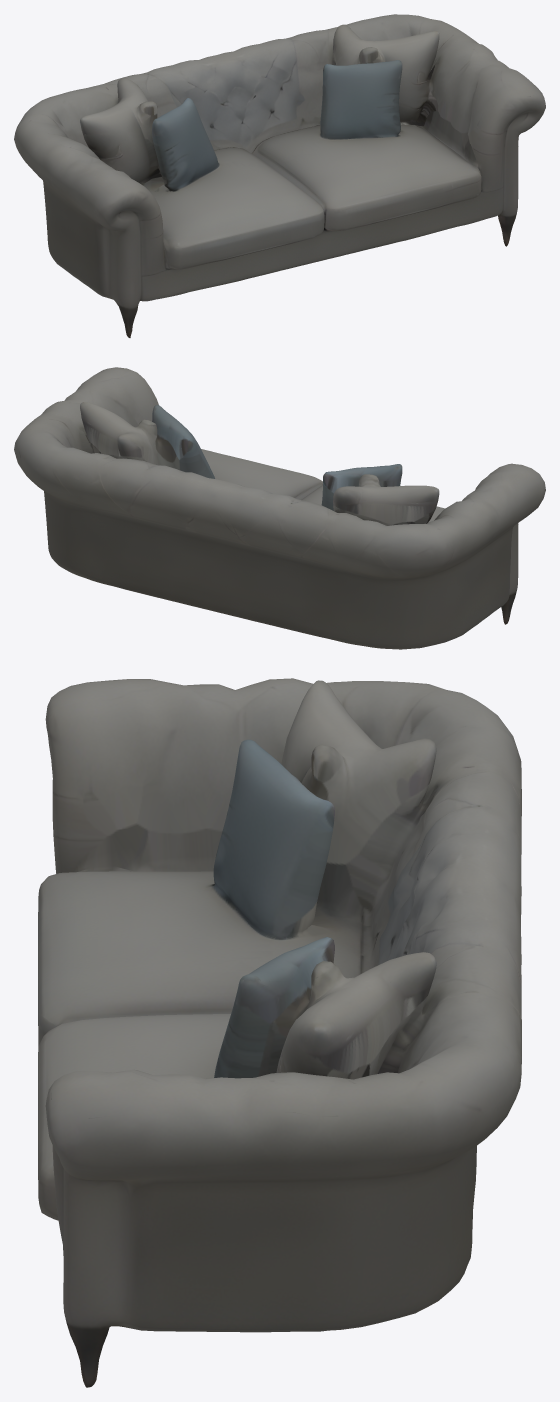
Rendered from base_basic_shaded.glb.
3 renders of one model, top to bottom at view 1: azimuth 30°, elevation 25°; view 2: azimuth 150°, elevation 25°; view 3: azimuth 270°, elevation 25°, orthographic. The views are drawn at different scales.
Visible parts, largest first — view 1: model; view 2: model; view 3: model.
Part boxes in pixels (x1,y1,x2,y2): model: [14, 14, 545, 337]; model: [14, 367, 545, 649]; model: [38, 678, 521, 1387].
Size of the model in its own units: 1.62 by 0.6161 by 0.7581.
Materials: 1 (1 with a texture image).
